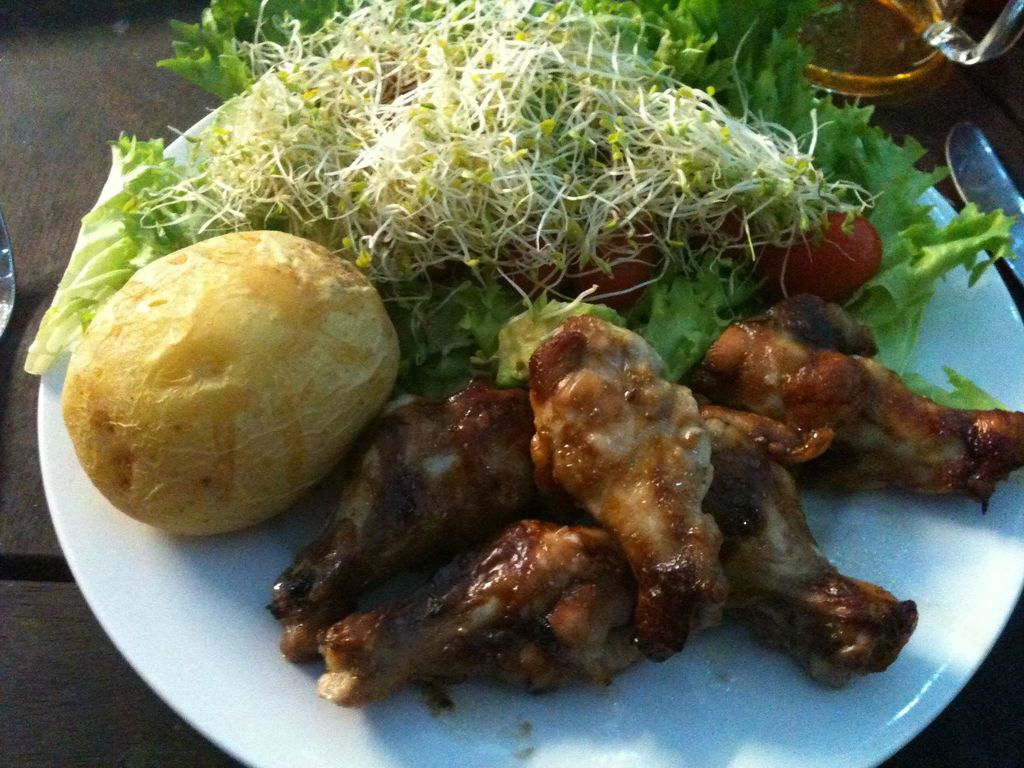Tomato: (784, 206, 878, 300)
